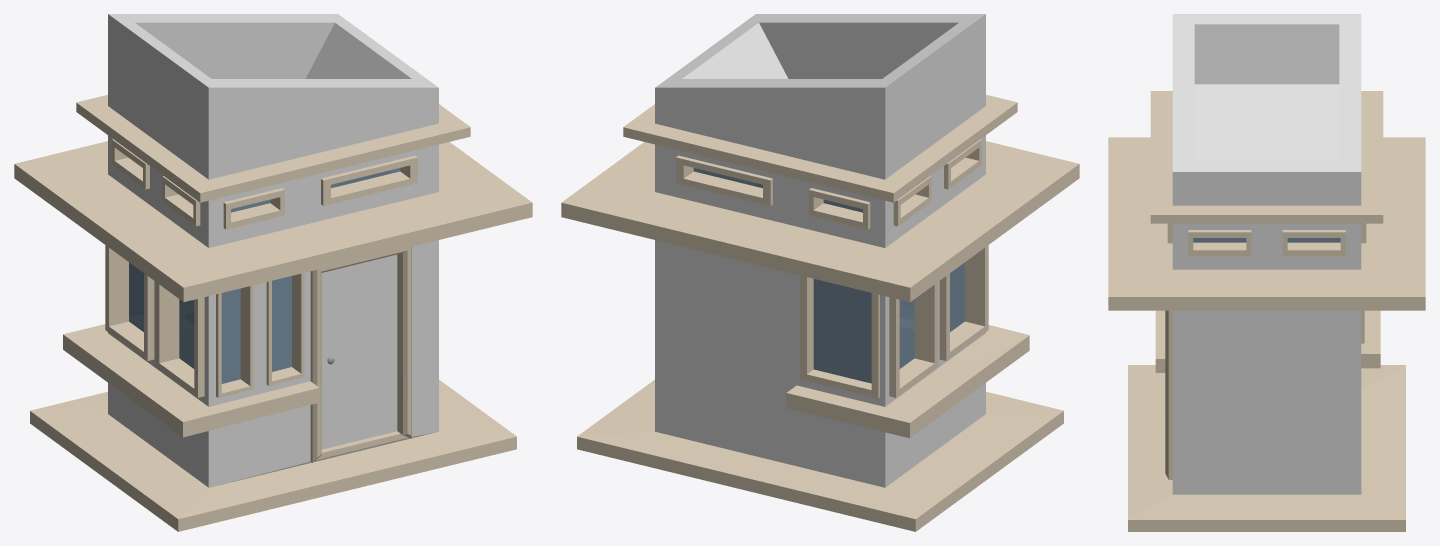
The model's file is security.fbx.
The picture shows the model from 3 angles, left to right: view 1: azimuth 30°, elevation 25°; view 2: azimuth 150°, elevation 25°; view 3: azimuth 270°, elevation 25°; orthographic projection. The views are drawn at different scales.
Parts seen in each view (by area): view 1: SecurityBarrier; view 2: SecurityBarrier; view 3: SecurityBarrier.
Boxes of the visible parts, <box> form: SecurityBarrier: <box>14,14,532,531</box>; SecurityBarrier: <box>561,14,1079,531</box>; SecurityBarrier: <box>1108,14,1425,531</box>.
Size of the model in its own units: 364 by 412 by 306.
